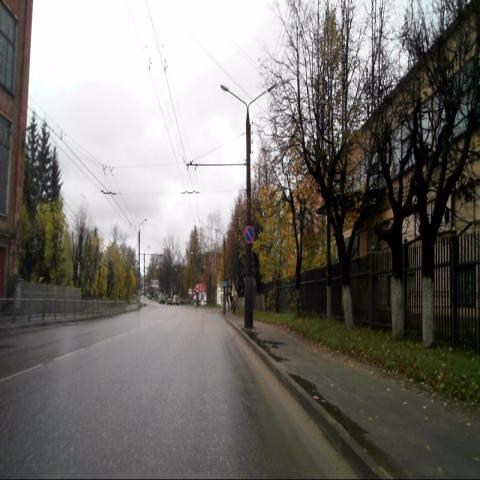3_28: (243, 225, 255, 245)
